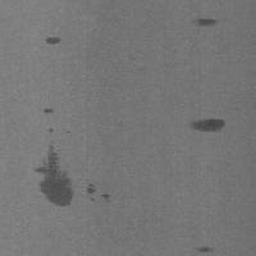Oil spot: (33, 145, 74, 209), (86, 182, 111, 207), (188, 118, 227, 134), (189, 17, 219, 28), (195, 244, 216, 255), (44, 36, 63, 46), (44, 108, 54, 114), (47, 127, 55, 134)
